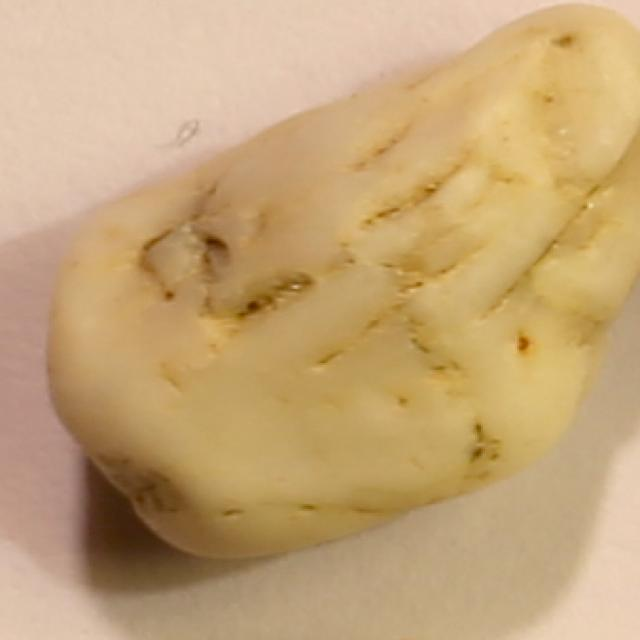stone: (40, 6, 640, 570)
